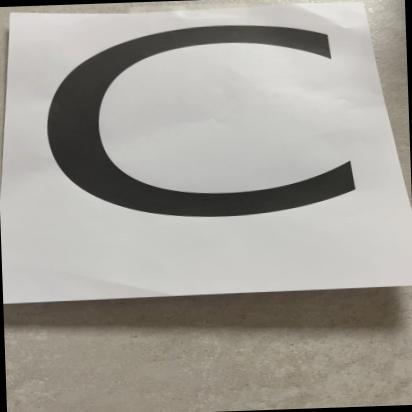seat: (1, 0, 412, 316)
